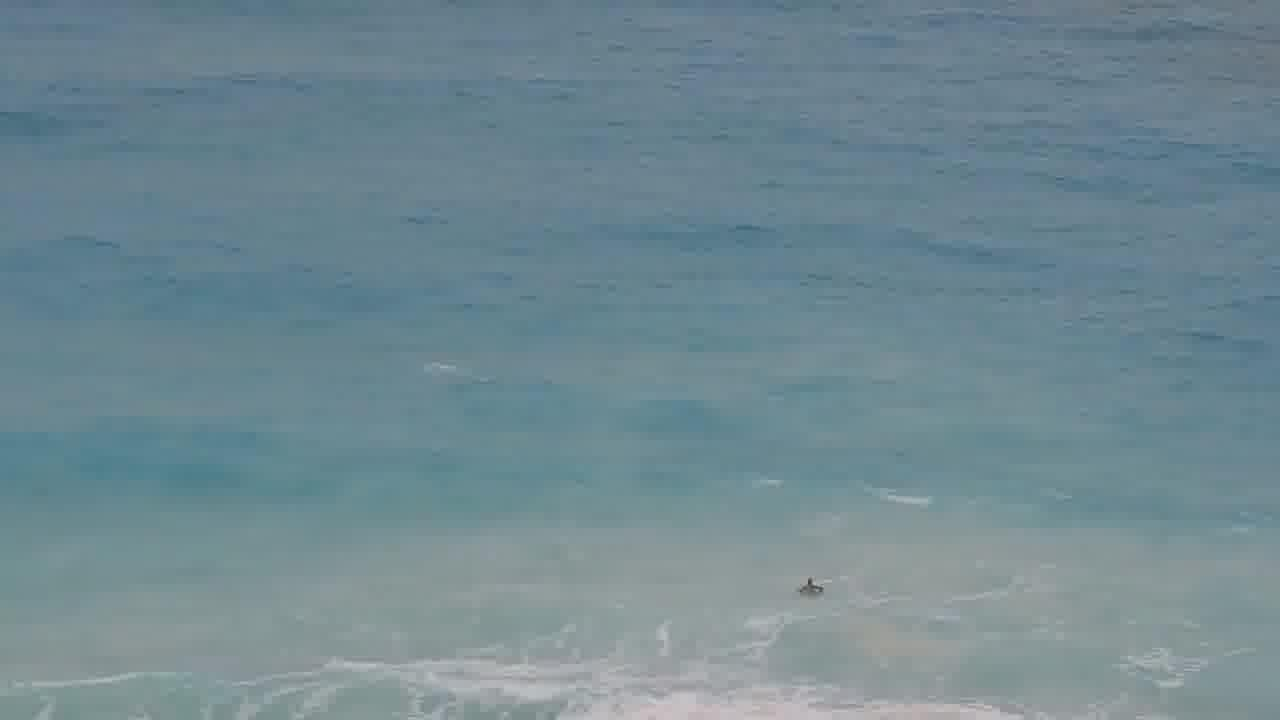swimmer: (780, 566, 847, 604)
